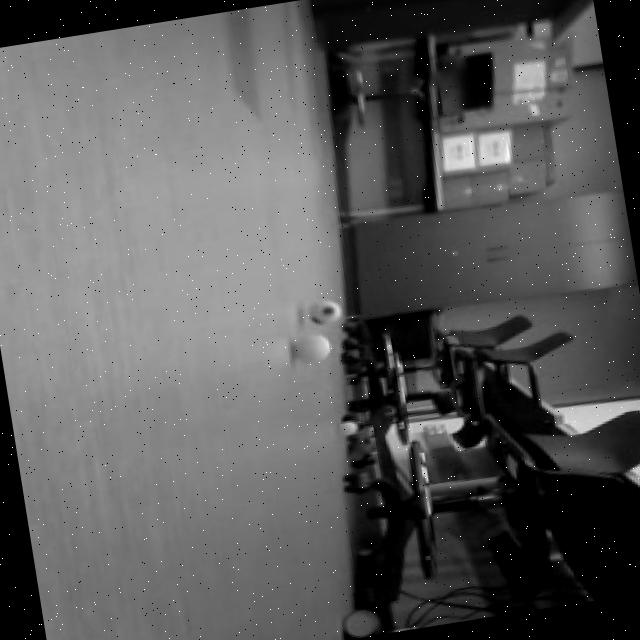ping-pong-ball: (286, 326, 336, 366), (302, 288, 351, 328), (330, 410, 358, 442)
